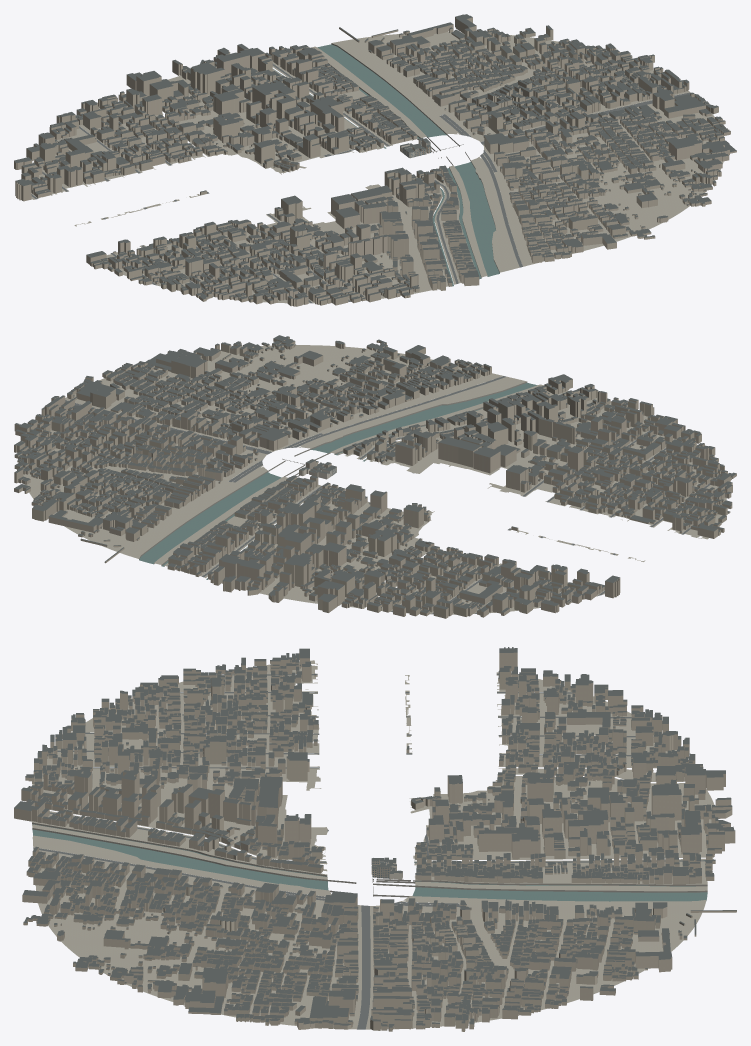
3 renders of one model, top to bottom at view 1: azimuth 30°, elevation 25°; view 2: azimuth 150°, elevation 25°; view 3: azimuth 270°, elevation 25°, orthographic. The views are drawn at different scales.
Parts seen in each view (by area): view 1: cell-e010-n000_base_RiverContext_Surfaces_paving, cell-e010-n000_base_RiverContext_Surfaces_water, cell-e010-n000_base_RiverContext_Surfaces_asphalt, cell-e010-n000_base_RiverContext_Buildings_8_2_stone, cell-e010-n000_base_RiverContext_Buildings_8_3_stone, cell-e010-n000_base_RiverContext_Buildings_4_2_stone, cell-e010-n000_base_RiverContext_Buildings_7_-4_stone, cell-e010-n000_base_RiverContext_Buildings_4_-3_stone, cell-e010-n000_base_RiverContext_Buildings_6_-4_stone, cell-e010-n000_base_RiverContext_Buildings_8_4_stone, cell-e010-n000_base_RiverContext_Buildings_7_-5_stone, cell-e010-n000_base_RiverContext_Buildings_7_2_stone (+135 smaller); view 2: cell-e010-n000_base_RiverContext_Surfaces_paving, cell-e010-n000_base_RiverContext_Surfaces_water, cell-e010-n000_base_RiverContext_Surfaces_asphalt, cell-e010-n000_base_RiverContext_Buildings_7_-4_stone, cell-e010-n000_base_RiverContext_Buildings_8_3_stone, cell-e010-n000_base_RiverContext_Buildings_8_4_stone, cell-e010-n000_base_RiverContext_Buildings_6_4_stone, cell-e010-n000_base_RiverContext_Buildings_8_2_stone, cell-e010-n000_base_RiverContext_Buildings_7_-5_stone, cell-e010-n000_base_RiverContext_Buildings_11_-4_stone, cell-e010-n000_base_RiverContext_Buildings_13_1_stone, cell-e010-n000_base_RiverContext_Buildings_4_-3_stone (+145 smaller); view 3: cell-e010-n000_base_RiverContext_Surfaces_paving, cell-e010-n000_base_RiverContext_Surfaces_water, cell-e010-n000_base_RiverContext_Surfaces_asphalt, cell-e010-n000_base_RiverContext_Surfaces_granite, cell-e010-n000_base_RiverContext_Buildings_8_-3_stone, cell-e010-n000_base_RiverContext_Buildings_8_-4_stone, cell-e010-n000_base_RiverContext_Buildings_8_4_stone, cell-e010-n000_base_RiverContext_Buildings_9_-2_stone, cell-e010-n000_base_RiverContext_Buildings_9_2_stone, cell-e010-n000_base_RiverContext_Buildings_8_3_stone, cell-e010-n000_base_RiverContext_Buildings_14_2_stone, cell-e010-n000_base_RiverContext_Buildings_14_-3_roof (+141 smaller).
Part boxes in pixels (box(x1,y1,x2,y2)): cell-e010-n000_base_RiverContext_Surfaces_paving: box(30, 32, 723, 303); cell-e010-n000_base_RiverContext_Surfaces_water: box(273, 44, 499, 286); cell-e010-n000_base_RiverContext_Surfaces_asphalt: box(31, 63, 690, 303); cell-e010-n000_base_RiverContext_Buildings_8_2_stone: box(240, 96, 317, 142); cell-e010-n000_base_RiverContext_Buildings_8_3_stone: box(212, 85, 295, 120); cell-e010-n000_base_RiverContext_Buildings_4_2_stone: box(45, 151, 118, 187); cell-e010-n000_base_RiverContext_Buildings_7_-4_stone: box(348, 232, 424, 271); cell-e010-n000_base_RiverContext_Buildings_4_-3_stone: box(185, 256, 261, 291); cell-e010-n000_base_RiverContext_Buildings_6_-4_stone: box(310, 253, 384, 287); cell-e010-n000_base_RiverContext_Buildings_8_4_stone: box(190, 64, 253, 100); cell-e010-n000_base_RiverContext_Buildings_7_-5_stone: box(381, 259, 452, 294); cell-e010-n000_base_RiverContext_Buildings_7_2_stone: box(187, 116, 254, 154); cell-e010-n000_base_RiverContext_Surfaces_paving: box(23, 345, 726, 614); cell-e010-n000_base_RiverContext_Surfaces_water: box(139, 382, 537, 579); cell-e010-n000_base_RiverContext_Surfaces_asphalt: box(65, 376, 721, 614); cell-e010-n000_base_RiverContext_Buildings_7_-4_stone: box(521, 404, 587, 444); cell-e010-n000_base_RiverContext_Buildings_8_3_stone: box(276, 527, 353, 570); cell-e010-n000_base_RiverContext_Buildings_8_4_stone: box(259, 547, 318, 590); cell-e010-n000_base_RiverContext_Buildings_6_4_stone: box(344, 574, 410, 612); cell-e010-n000_base_RiverContext_Buildings_8_2_stone: box(302, 509, 384, 548); cell-e010-n000_base_RiverContext_Buildings_7_-5_stone: box(550, 385, 624, 420); cell-e010-n000_base_RiverContext_Buildings_11_-4_stone: box(334, 359, 406, 391); cell-e010-n000_base_RiverContext_Buildings_13_1_stone: box(97, 433, 170, 470); cell-e010-n000_base_RiverContext_Buildings_4_-3_stone: box(642, 462, 714, 497); cell-e010-n000_base_RiverContext_Surfaces_paving: box(31, 660, 714, 1029); cell-e010-n000_base_RiverContext_Surfaces_water: box(32, 824, 713, 901); cell-e010-n000_base_RiverContext_Surfaces_asphalt: box(33, 673, 705, 1029); cell-e010-n000_base_RiverContext_Surfaces_granite: box(32, 822, 707, 892); cell-e010-n000_base_RiverContext_Buildings_8_-3_stone: box(156, 785, 226, 837); cell-e010-n000_base_RiverContext_Buildings_8_-4_stone: box(88, 788, 158, 837); cell-e010-n000_base_RiverContext_Buildings_8_4_stone: box(624, 785, 694, 837); cell-e010-n000_base_RiverContext_Buildings_9_-2_stone: box(221, 817, 294, 866); cell-e010-n000_base_RiverContext_Buildings_9_2_stone: box(478, 828, 565, 865); cell-e010-n000_base_RiverContext_Buildings_8_3_stone: box(561, 791, 627, 843); cell-e010-n000_base_RiverContext_Buildings_14_2_stone: box(486, 967, 563, 1008); cell-e010-n000_base_RiverContext_Buildings_14_-3_roof: box(153, 967, 227, 1013).
Size of the model in its own units: 1321 by 44.51 by 1078.
Materials: 11 (9 with a texture image).
